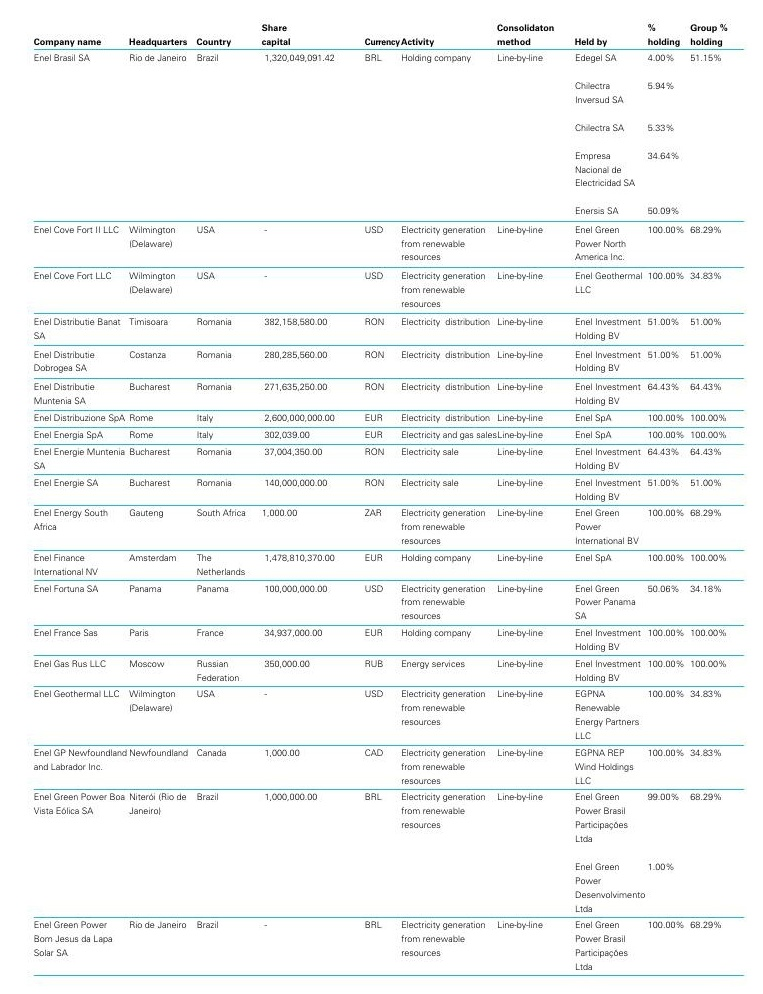table: (0, 0, 763, 994)
